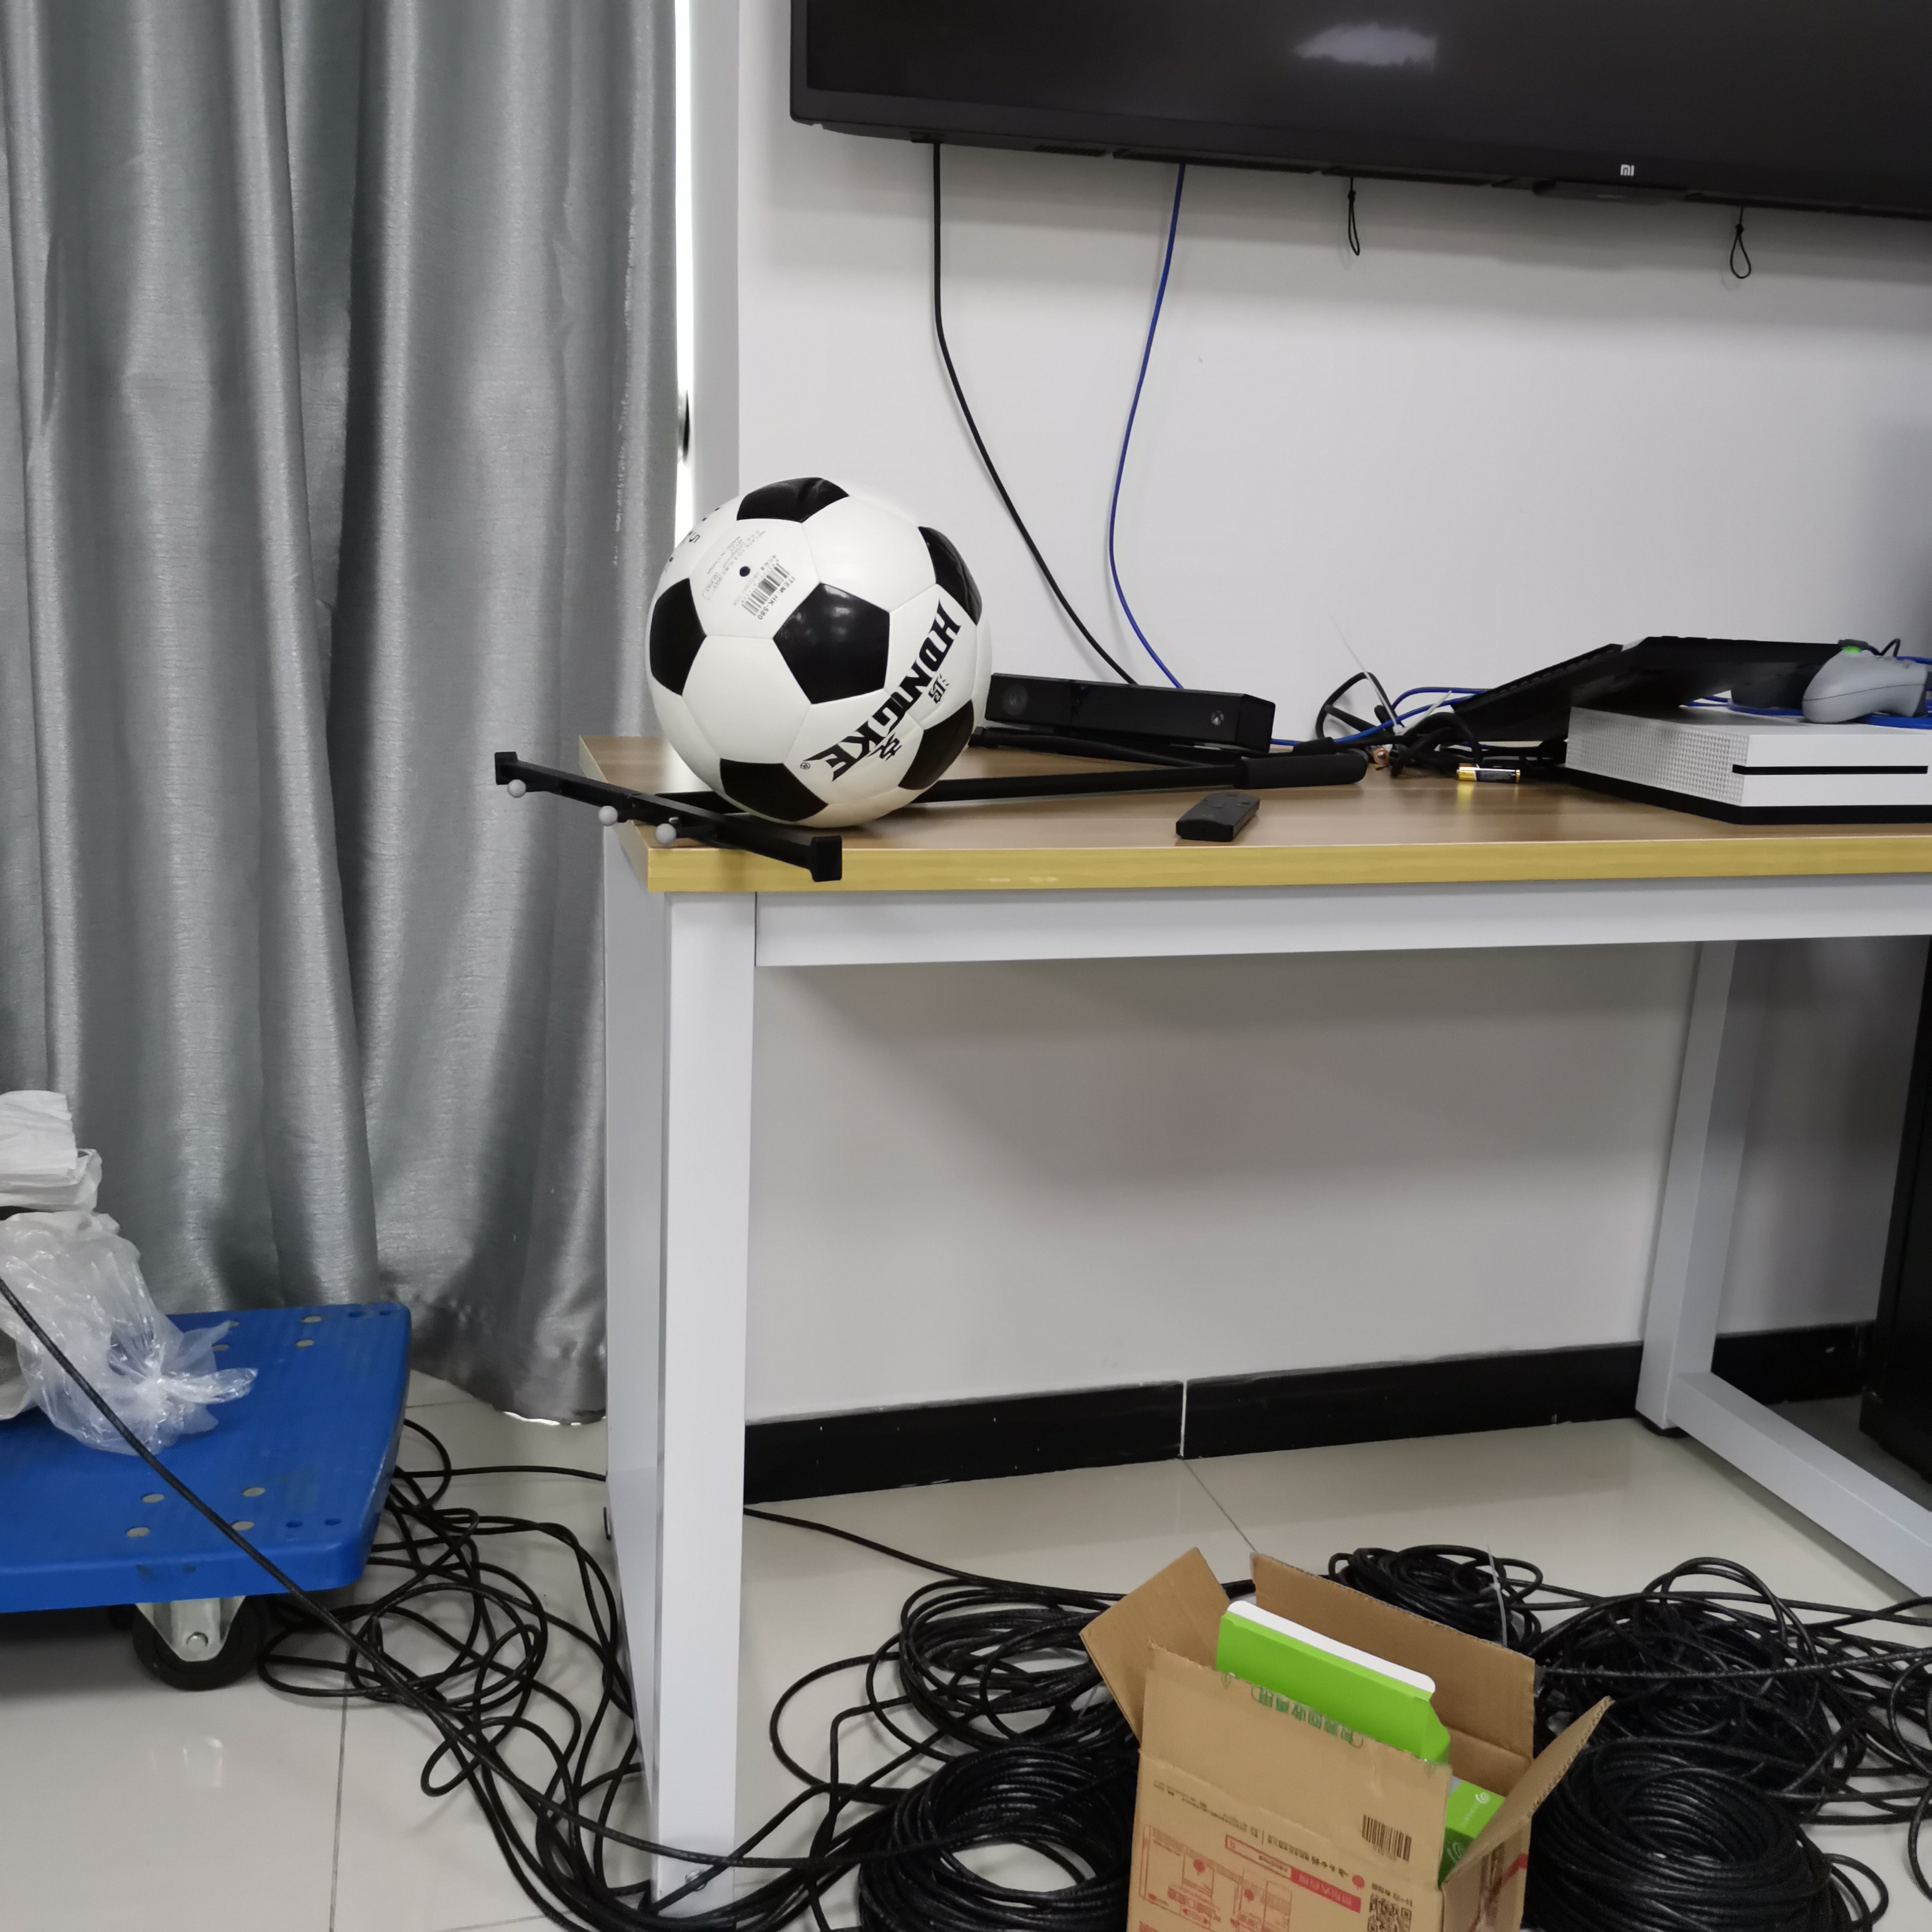football: (644, 476, 994, 832)
